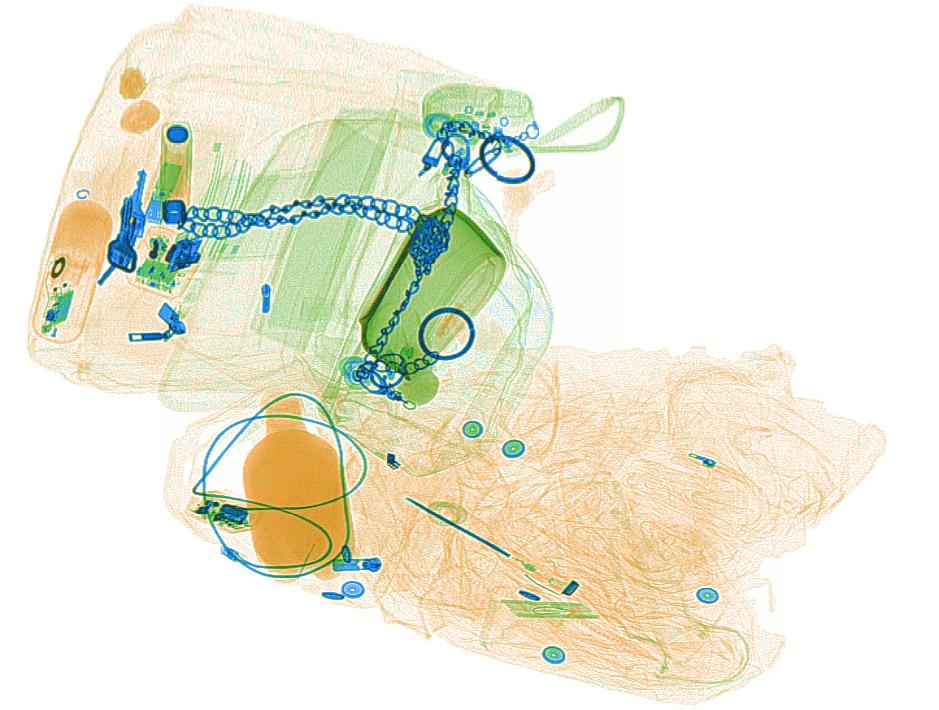USBFlashDisk: (142, 161, 185, 226)
